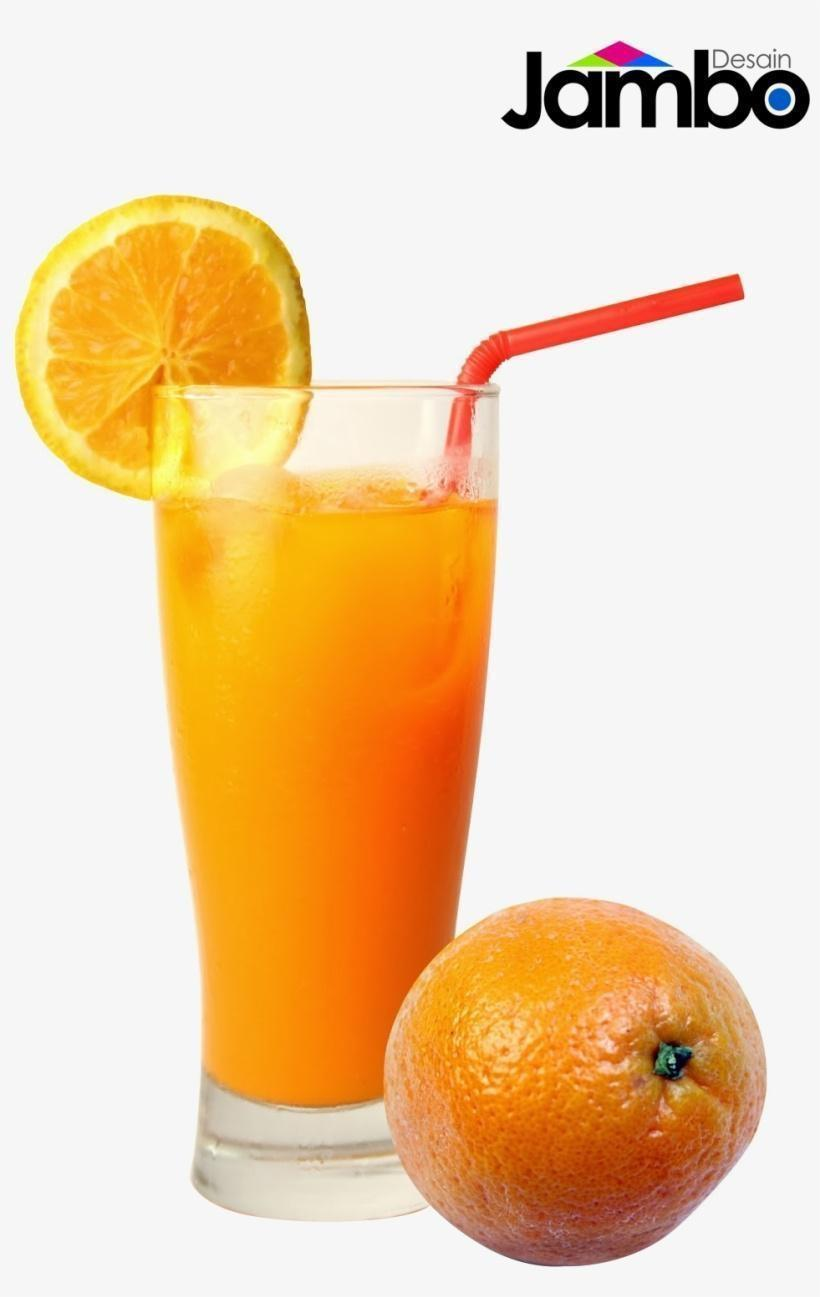glass-normal: (142, 373, 509, 1226)
